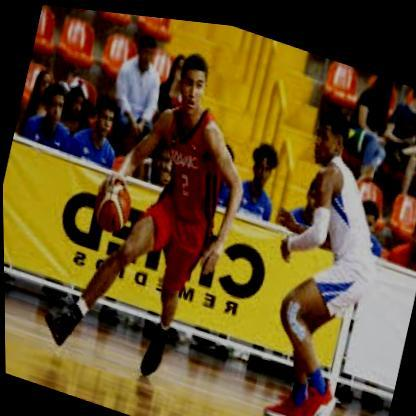basketball: (90, 173, 135, 235)
